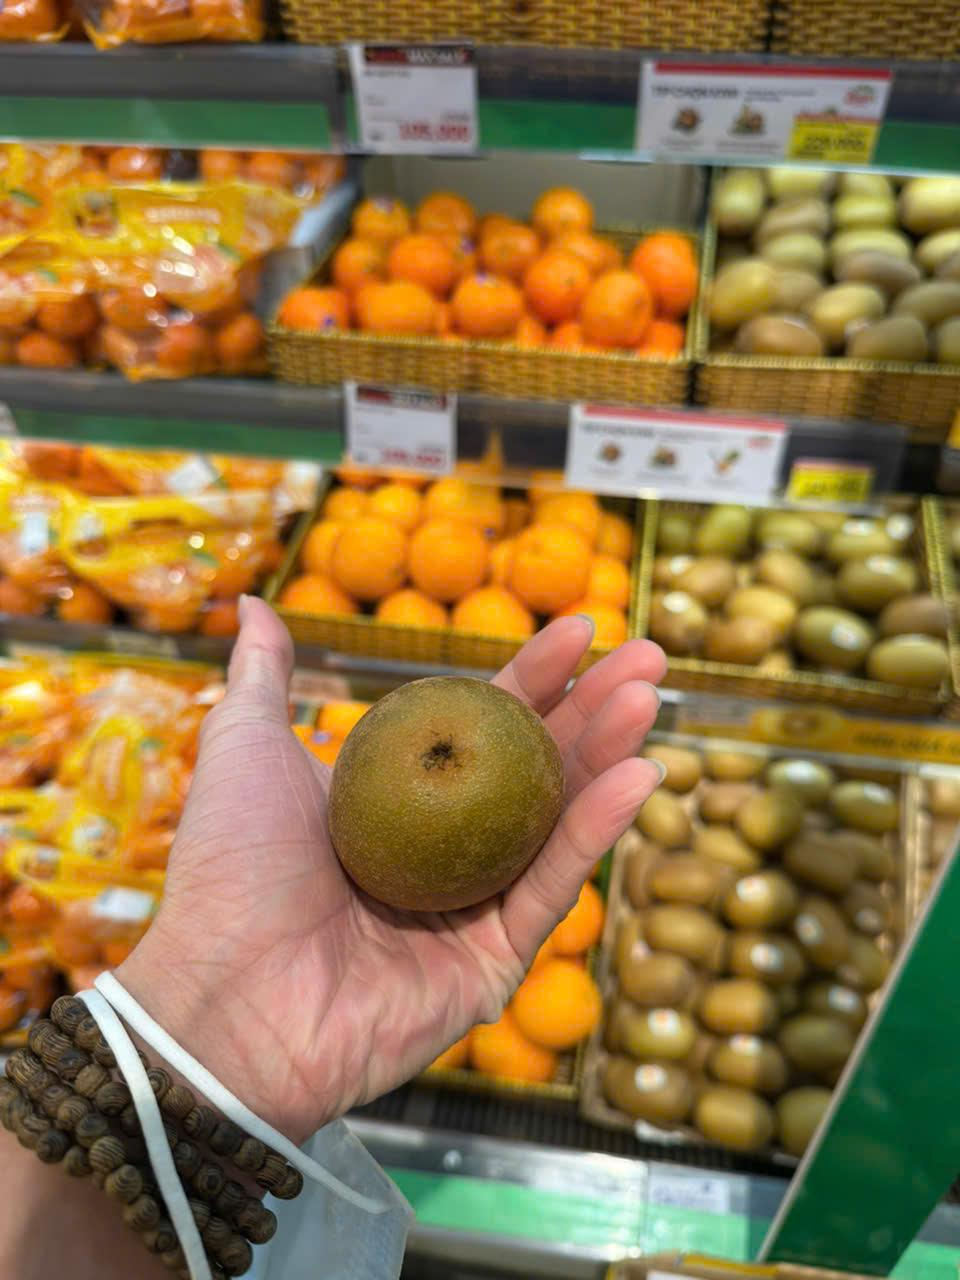kiwi: (328, 673, 552, 908)
